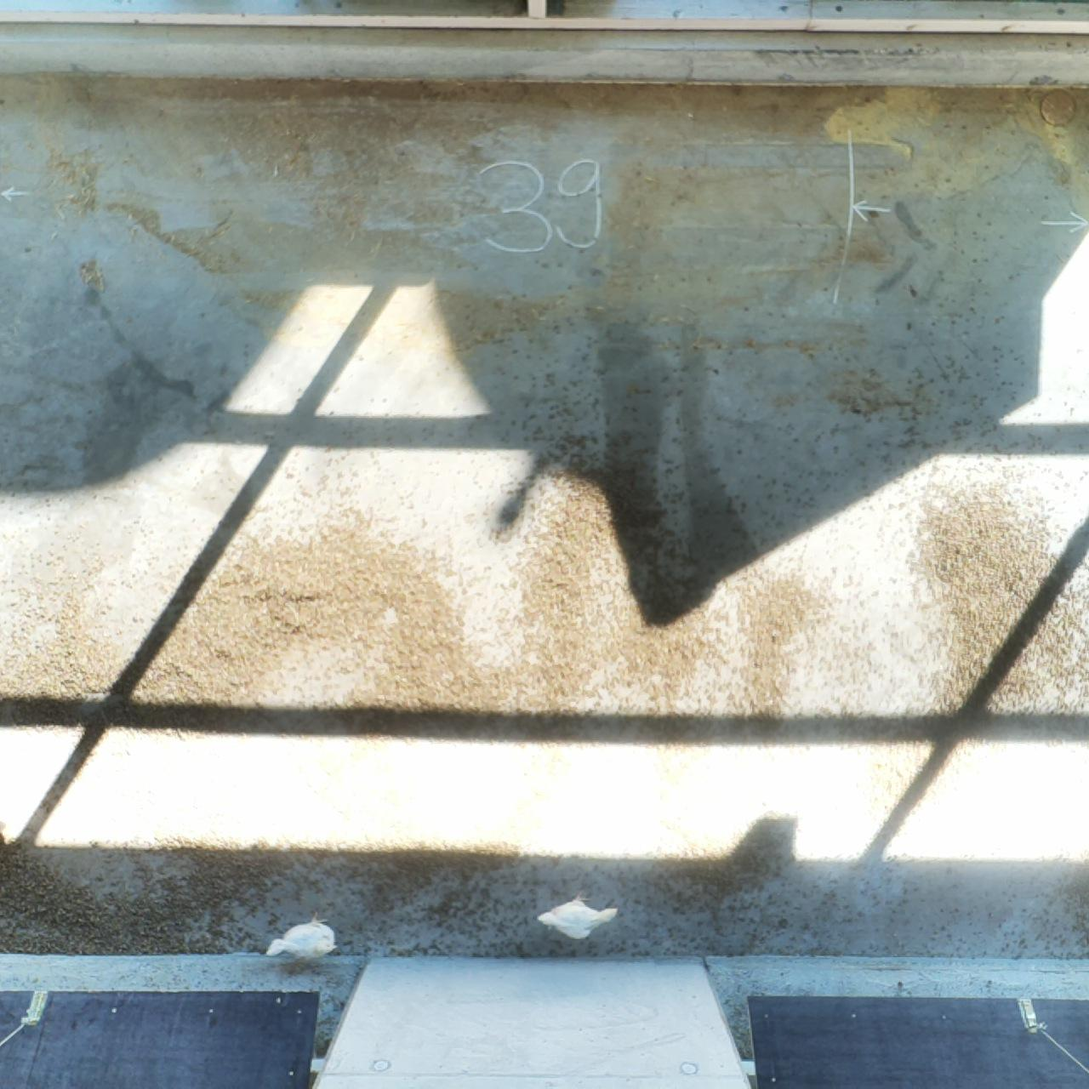chicken: (531, 895, 623, 949), (262, 910, 340, 972)
